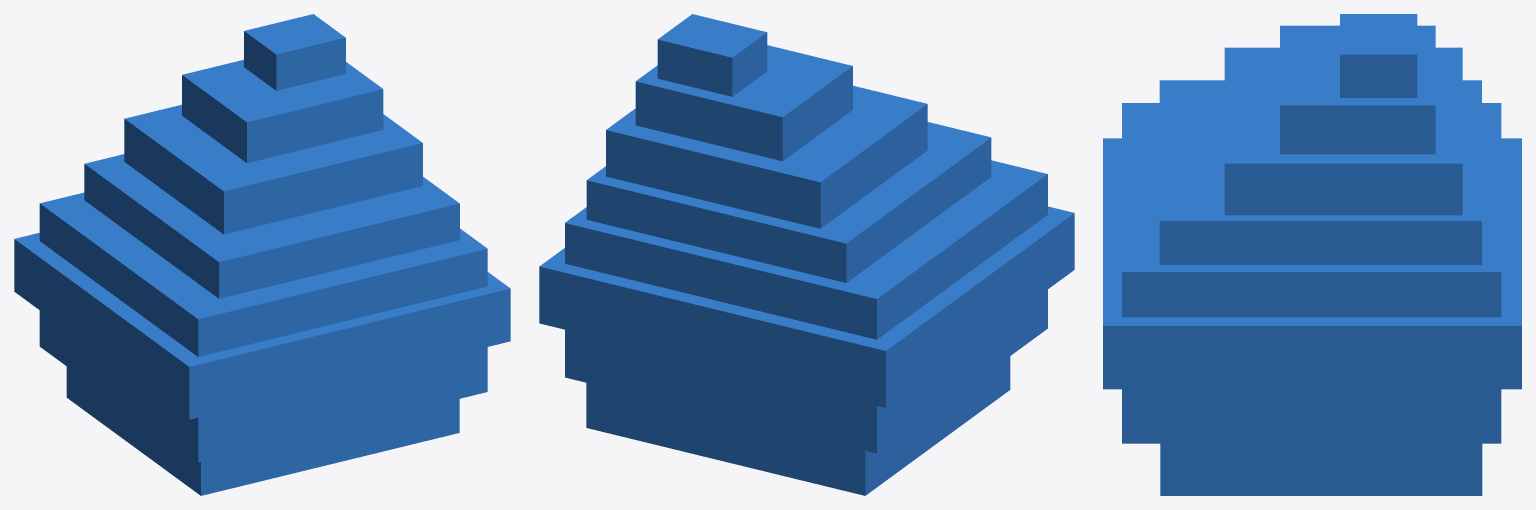
Rendered from 파란물방울 2.fbx.
The picture shows the model from 3 angles, left to right: view 1: azimuth 30°, elevation 25°; view 2: azimuth 150°, elevation 25°; view 3: azimuth 270°, elevation 25°; orthographic projection. The views are drawn at different scales.
Parts seen in each view (by area): view 1: Box005; view 2: Box005; view 3: Box005.
Part boxes in pixels (x1=…): Box005: x1=14, y1=14, x2=510, y2=495; Box005: x1=539, y1=14, x2=1074, y2=495; Box005: x1=1103, y1=14, x2=1521, y2=495.
Bounding box in the file's own units: 34.51 × 35.9 × 32.55.
Materials: 1 (1 with a texture image).
